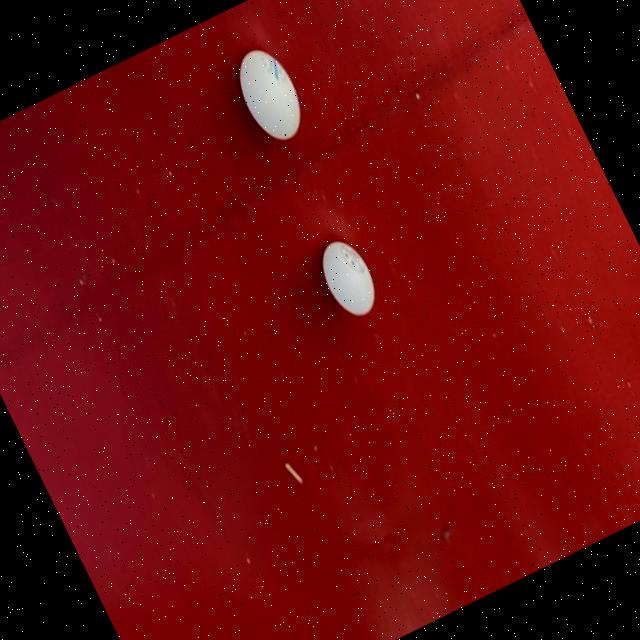ping-pong-ball: (221, 36, 319, 154), (308, 228, 389, 327)
